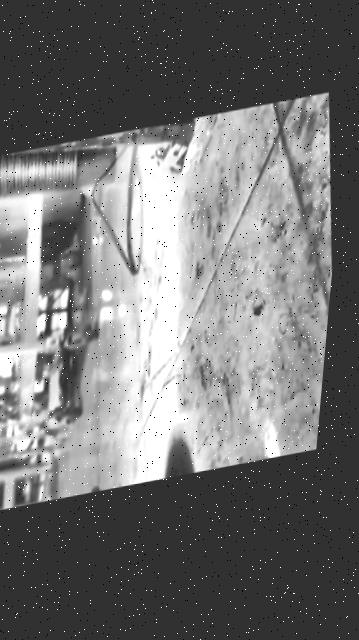pot: (85, 470, 179, 494)
